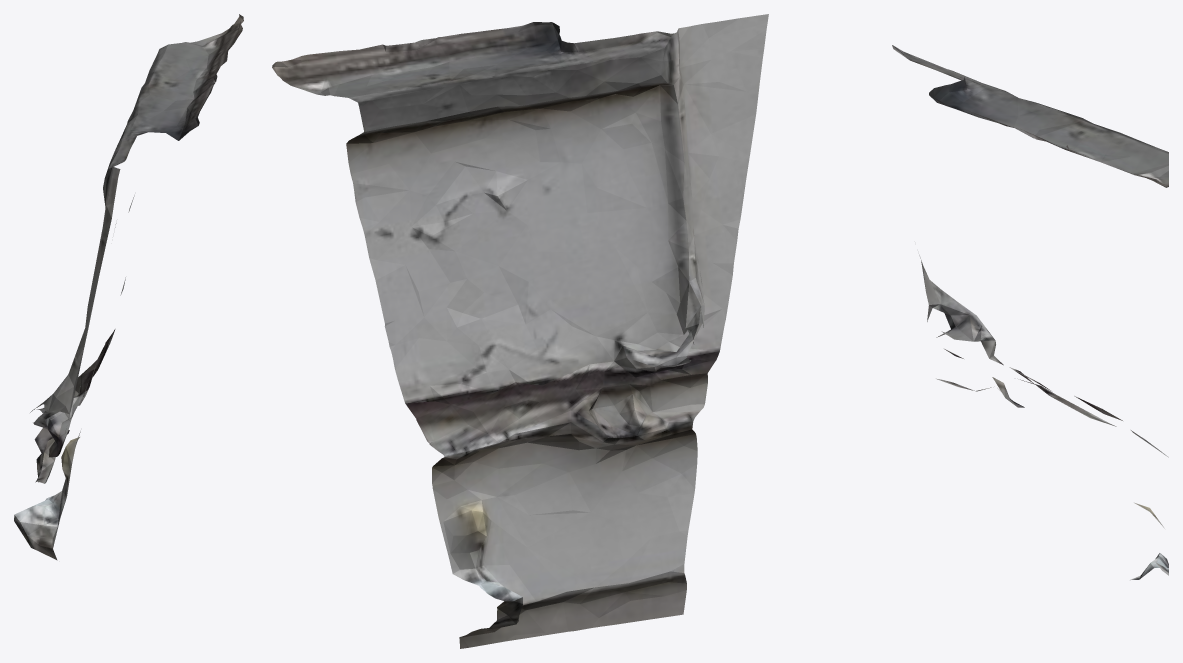
The picture shows the model from 3 angles, left to right: view 1: azimuth 30°, elevation 25°; view 2: azimuth 150°, elevation 25°; view 3: azimuth 270°, elevation 25°; orthographic projection. The views are drawn at different scales.
Bounding box in the file's own units: 1.05 × 1.67 × 0.9956.
Materials: 2 (2 with a texture image).
